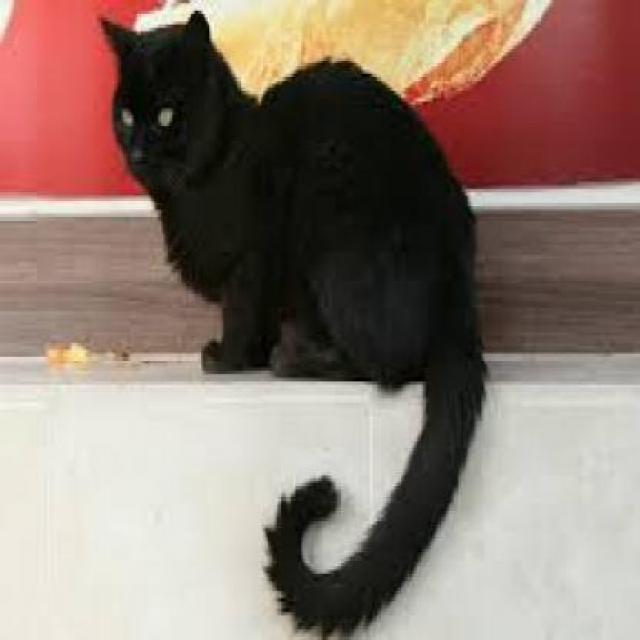animals: (93, 24, 489, 619)
